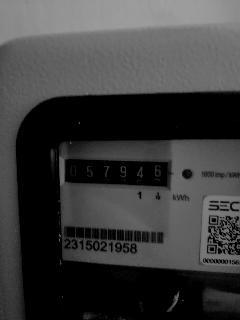1: (70, 166, 76, 177)
5: (137, 166, 143, 178)
6: (87, 166, 93, 178)
7: (155, 165, 161, 178)
8: (103, 165, 109, 177)
:: (120, 166, 126, 178)
